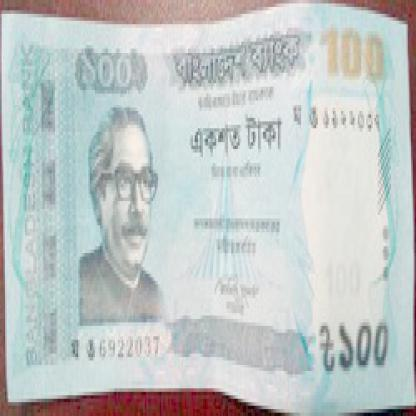one hundred taka: (303, 17, 398, 94), (331, 301, 401, 378), (60, 42, 143, 94)
